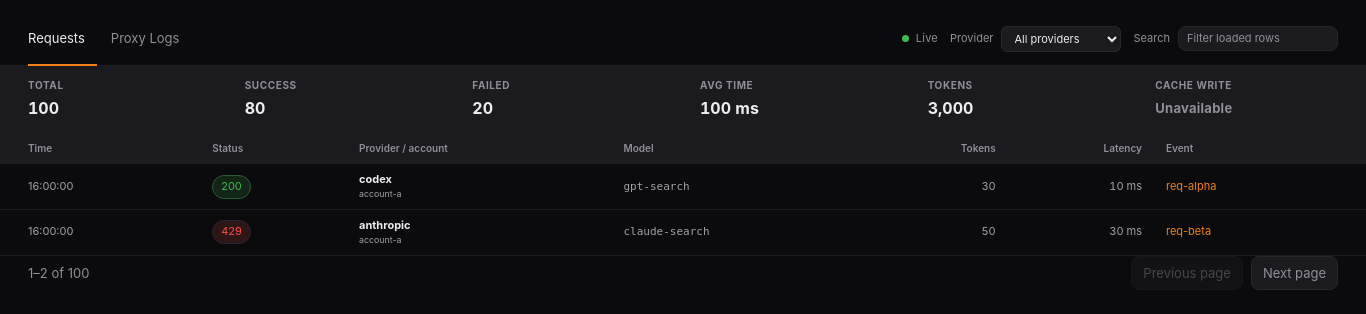
Test case: Logs loaded-page search › keeps paging available with no matches and resets query counts on later pages
Type "claude" into the search field named "Search loaded requests" at (1258, 38), box [1178, 26, 1338, 51]
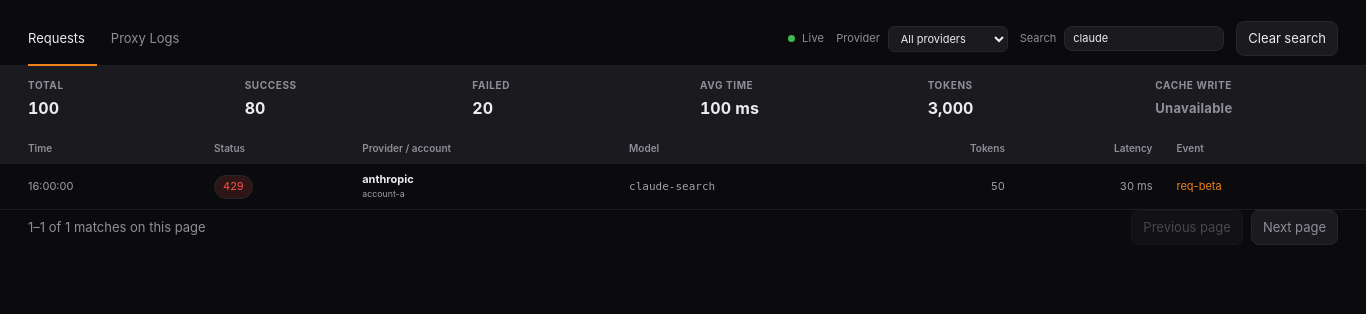
Click the button with aria-label "Next history page" at (1294, 227), box [1251, 210, 1338, 245]
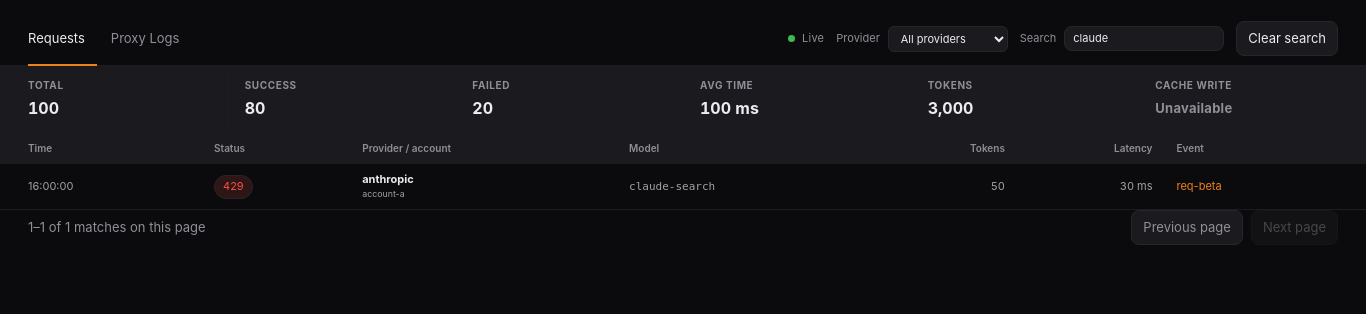
Expected: the text "1–1 of 1 matches on this page" is shown, [28, 218, 206, 237]
Replace the text in the search field named "Search loaded requests" with "missing-request" at (1144, 38), box [1064, 26, 1224, 51]
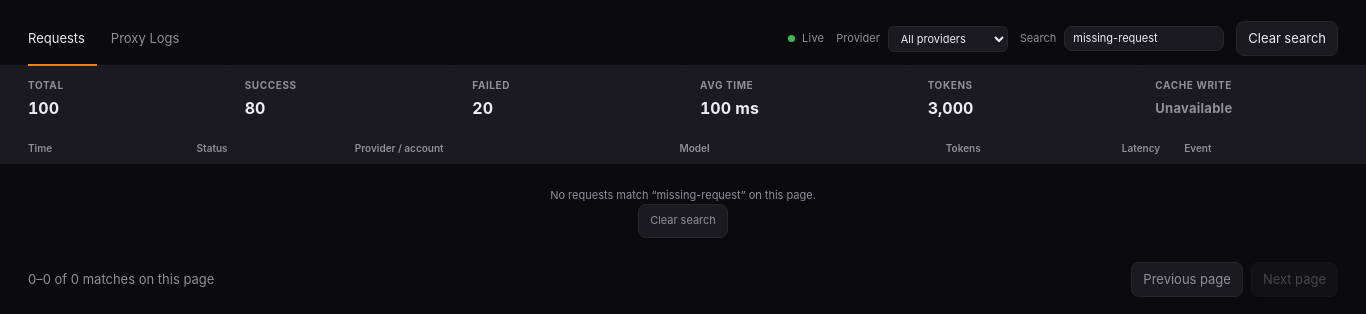
Expected: the text "0–0 of 0 matches on this page" is shown, [28, 270, 214, 289]
Click the button with aria-label "Previous history page" at (1187, 280), box [1131, 262, 1243, 297]
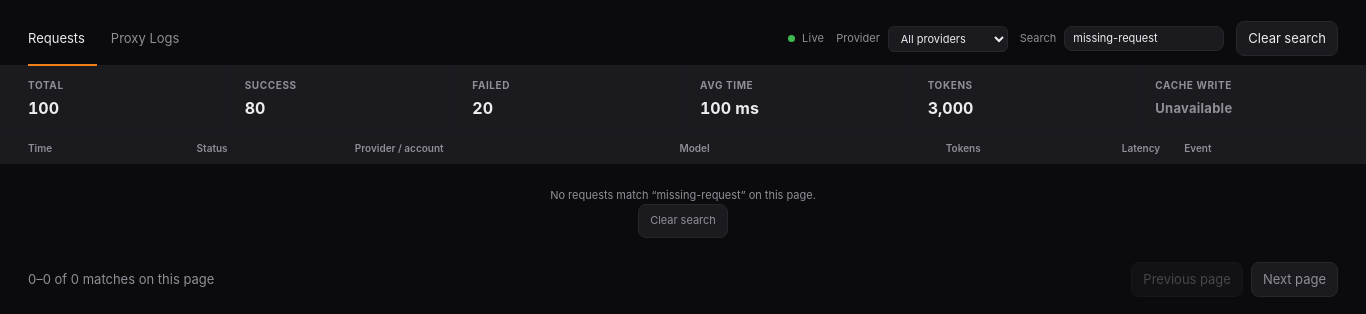
Expected: the button with aria-label "Next history page" is enabled, [1251, 262, 1338, 297]
Click the button with aria-label "Clear log search" at (1287, 38), box [1236, 21, 1338, 56]
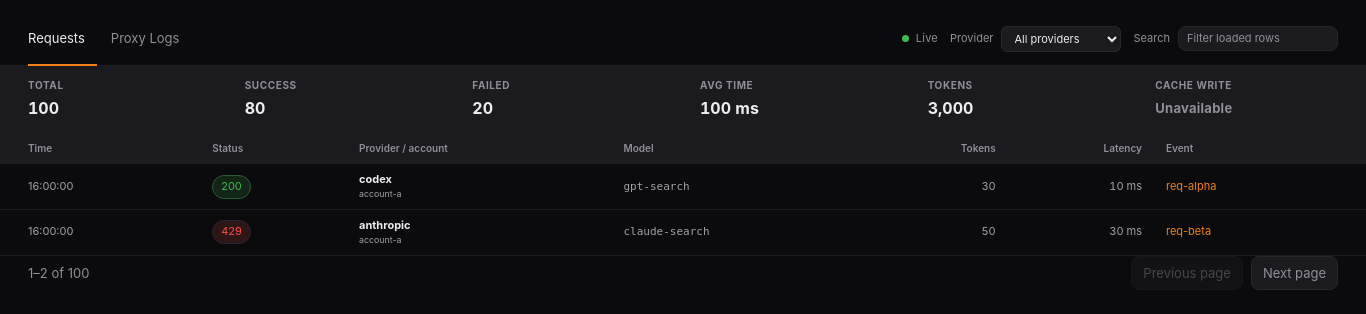
Expected: the text "1–2 of 100" is shown, [28, 264, 89, 282]
